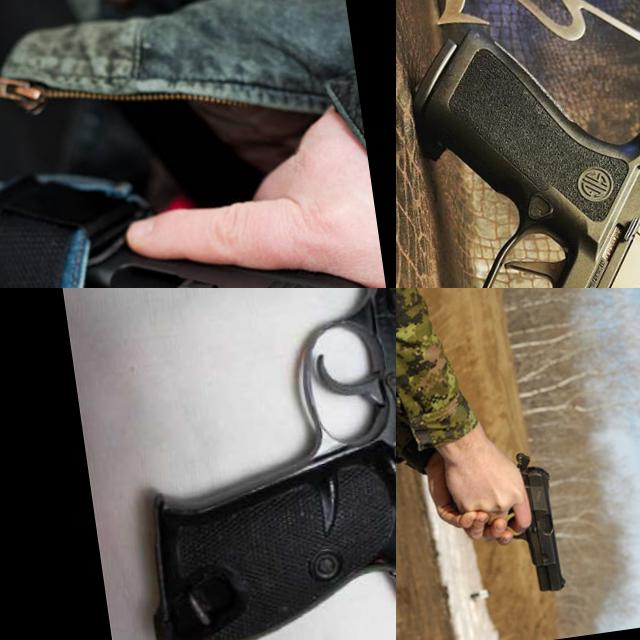handgun: (76, 288, 396, 640), (396, 0, 640, 288), (53, 196, 396, 288), (494, 446, 570, 602)
